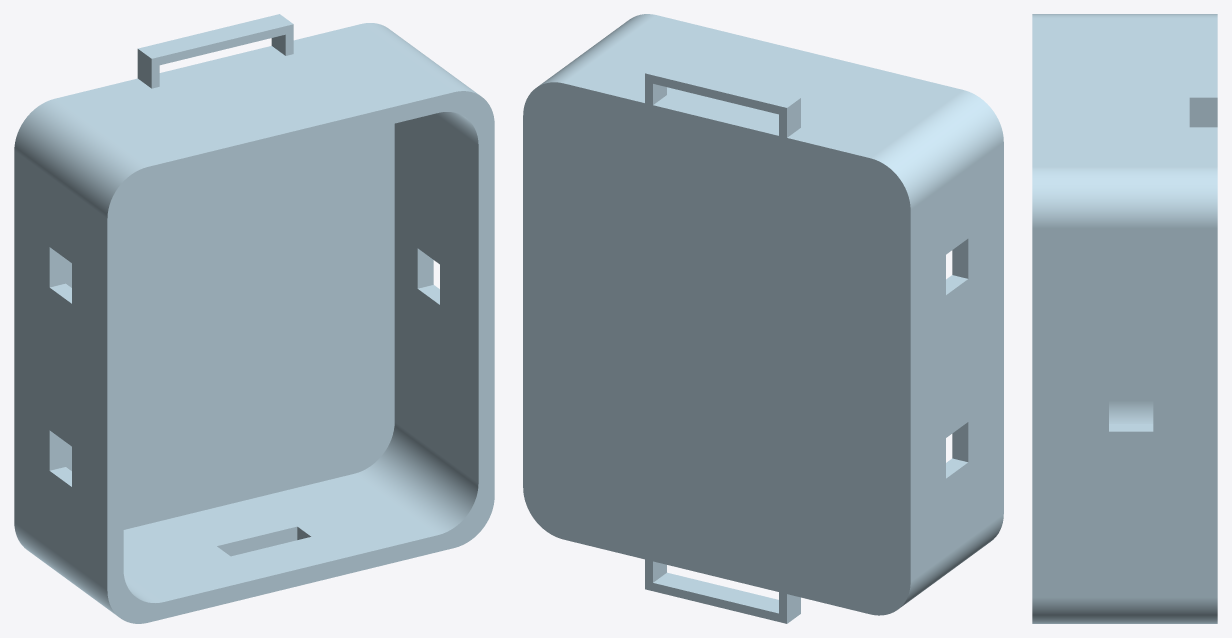
The model's file is proj1.gltf.
The picture shows the model from 3 angles, left to right: view 1: azimuth 30°, elevation 25°; view 2: azimuth 150°, elevation 25°; view 3: azimuth 270°, elevation 25°; orthographic projection.
Visible parts, largest first — view 1: Part 1; view 2: Part 1; view 3: Part 1.
Part boxes in pixels (left/top/right/bottom): Part 1: left=14, top=14, right=494, bottom=623; Part 1: left=523, top=14, right=1003, bottom=623; Part 1: left=1032, top=14, right=1217, bottom=623.
Bounding box in the file's own units: 0.061 × 0.0776 × 0.0254.
